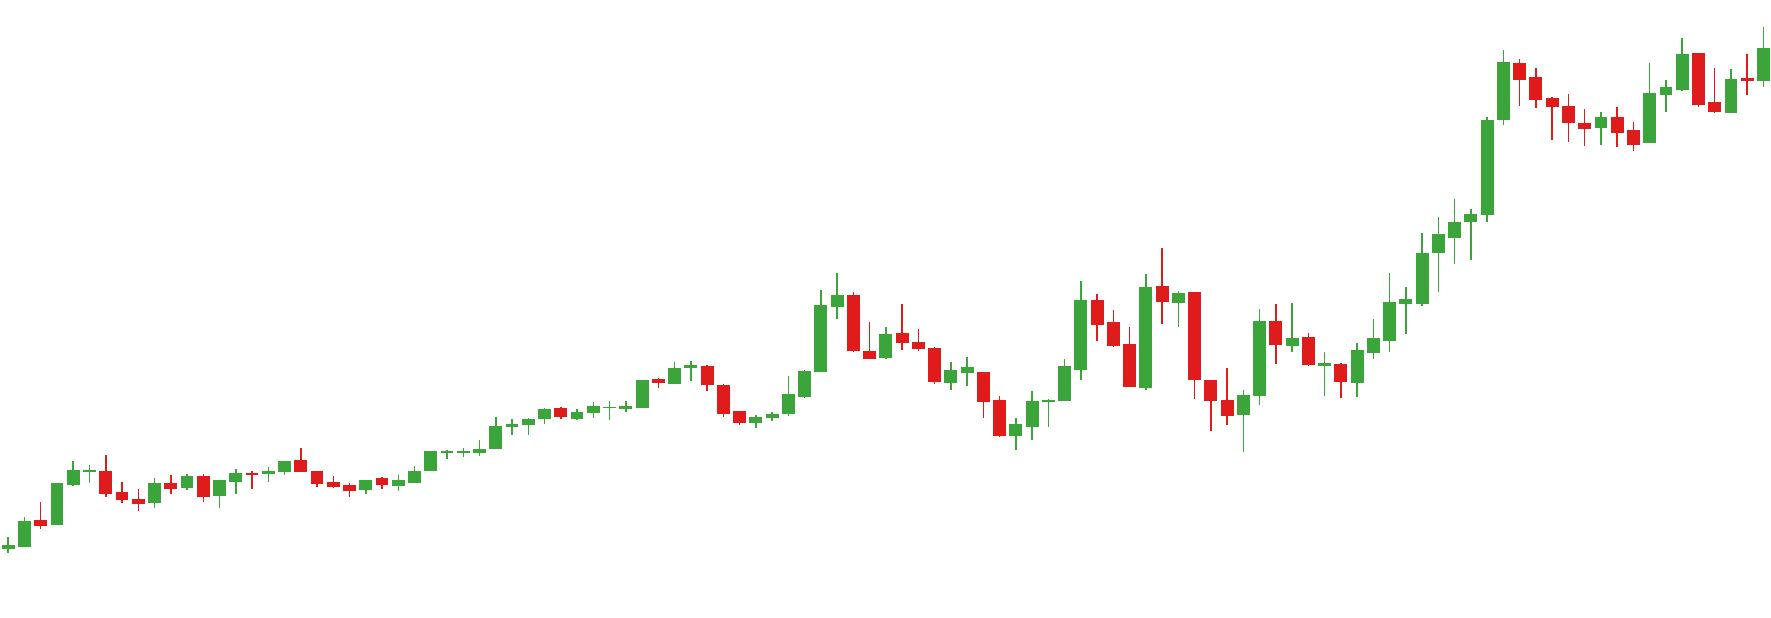buy: (1122, 310, 1270, 450)
